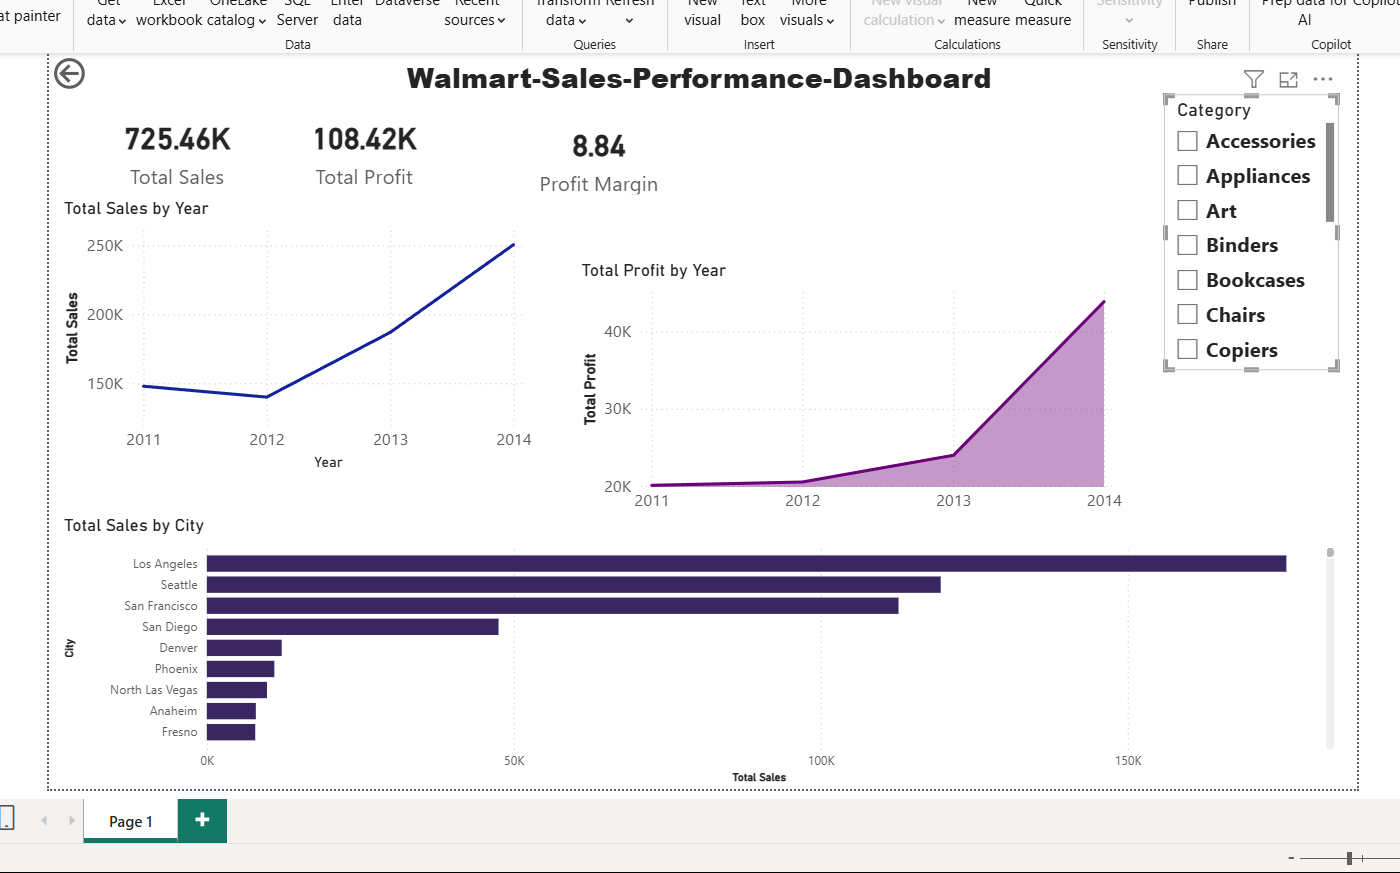

The page's visual inventory and layout, read from the dashboard file:
{"tool":"powerbi","page":{"name":"Page 1","canvas":[1280,720],"ordinal":0},"visuals":[{"type":"textbox","box":[9.6,0,1252.8,60.4],"z":0},{"type":"card","fields":{"Values":["Walmart.Total Sales"]},"box":[0,46.7,251.1,97.4],"z":1},{"type":"card","fields":{"Values":["Walmart.Total Profit"]},"box":[197.6,46.7,220.9,97.4],"z":2},{"type":"card","fields":{"Values":["Walmart.Profit Margin"]},"box":[441.9,60.4,193.5,83.7],"z":3},{"type":"lineChart","fields":{"Category":["Walmart.Order_Date.Variation.Date Hierarchy.Year","Walmart.Order_Date.Variation.Date Hierarchy.Month"],"Y":["Walmart.Total Sales"]},"box":[9.6,141.3,467.9,271.7],"z":4},{"type":"slicer","fields":{"Values":["Walmart.Category"]},"box":[1090.9,39.8,171.5,270.3],"z":5},{"type":"actionButton","box":[0,0,100,40],"z":6},{"type":"areaChart","fields":{"Category":["Walmart.Order_Date.Variation.Date Hierarchy.Year"],"Y":["Walmart.Total Profit"]},"box":[516,201.7,539.3,271.7],"z":7},{"type":"barChart","fields":{"Y":["Walmart.Total Sales"],"Category":["Walmart.City"]},"box":[9.6,451.5,1252.8,269],"z":8}]}

Visuals, with their boxes on the page's 1280x720 design canvas (x1, y1, x2, y2). These are canvas units, not pixel positions in the 1400x873 screenshot, which may show the page scaled, cropped or inside an application window:
textbox: (10, 0, 1262, 60)
card - Walmart.Total Sales: (0, 47, 251, 144)
card - Walmart.Total Profit: (198, 47, 418, 144)
card - Walmart.Profit Margin: (442, 60, 635, 144)
lineChart - Walmart.Order_Date.Variation.Date Hierarchy.Year x Walmart.Order_Date.Variation.Date Hierarchy.Month: (10, 141, 478, 413)
slicer - Walmart.Category: (1091, 40, 1262, 310)
actionButton: (0, 0, 100, 40)
areaChart - Walmart.Order_Date.Variation.Date Hierarchy.Year x Walmart.Total Profit: (516, 202, 1055, 473)
barChart - Walmart.Total Sales x Walmart.City: (10, 452, 1262, 720)
